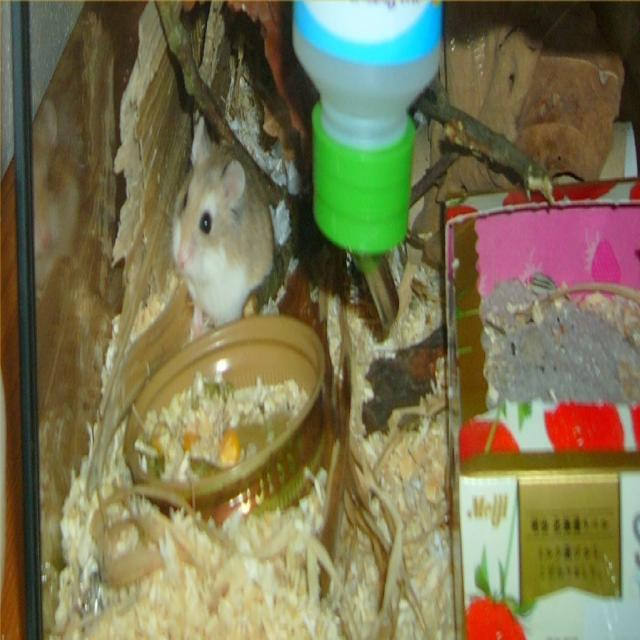rat: (169, 116, 275, 308)
